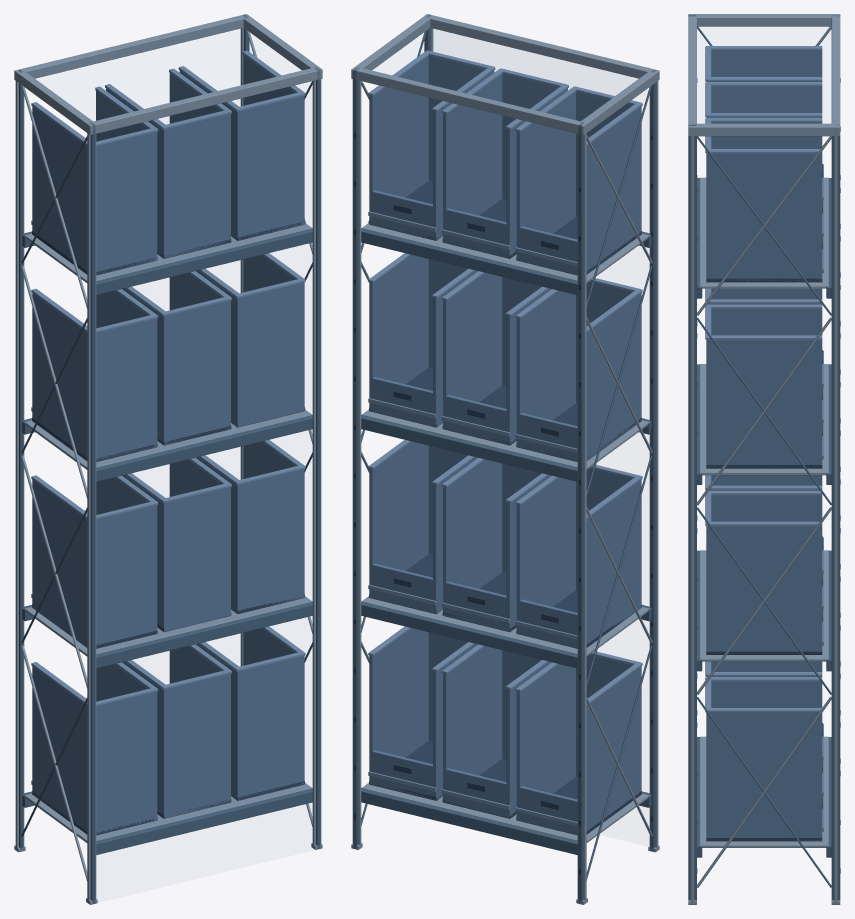
File: SM_GHS_Presentation_RackTall.fbx
3 views of the same model, side by side, from view 1: azimuth 30°, elevation 25°; view 2: azimuth 150°, elevation 25°; view 3: azimuth 270°, elevation 25° (orthographic).
Visible parts, largest first — view 1: SM_GHS_Presentation_RackTall; view 2: SM_GHS_Presentation_RackTall; view 3: SM_GHS_Presentation_RackTall.
Part boxes in pixels (x1,y1,x2,y2): SM_GHS_Presentation_RackTall: [14, 14, 322, 904]; SM_GHS_Presentation_RackTall: [351, 14, 659, 904]; SM_GHS_Presentation_RackTall: [688, 14, 840, 904].
Bounding box in the file's own units: 150 × 85.2 × 480.
